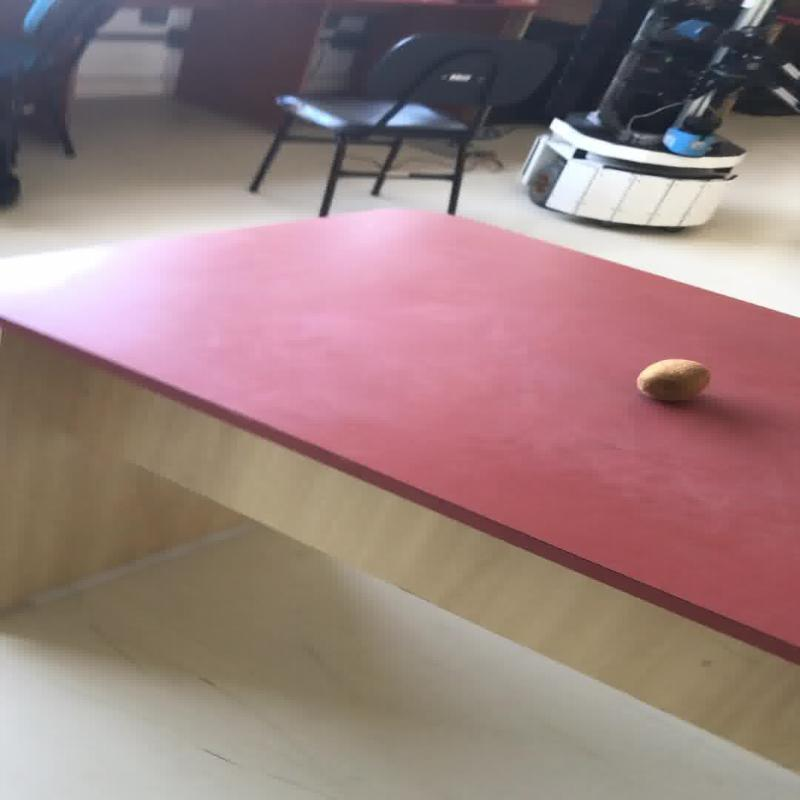kiwi: (634, 357, 710, 401)
